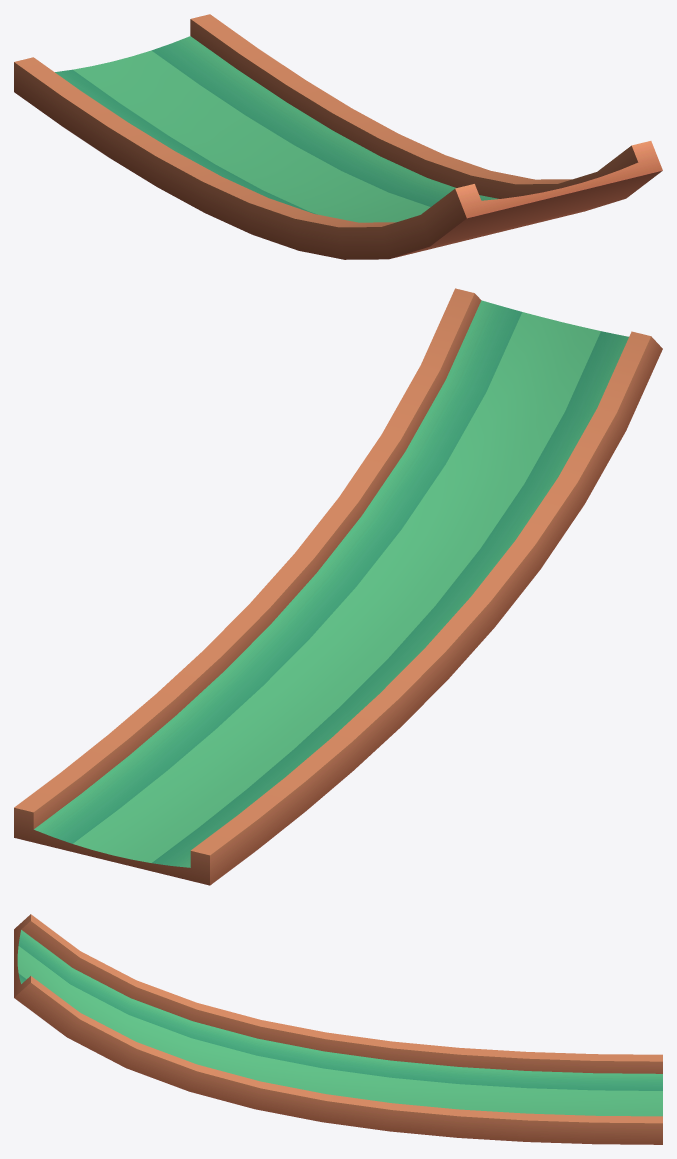
Rendered from spline-concave-straight-hill-beginning.glb.
The picture shows the model from 3 angles, top to bottom: view 1: azimuth 30°, elevation 25°; view 2: azimuth 150°, elevation 25°; view 3: azimuth 270°, elevation 25°; orthographic projection. The views are drawn at different scales.
Visible parts, largest first — view 1: spline-concave-straight-hill-beginning; view 2: spline-concave-straight-hill-beginning; view 3: spline-concave-straight-hill-beginning.
Boxes of the visible parts, x1,y1,x2,y2 form: spline-concave-straight-hill-beginning: [14, 14, 662, 259]; spline-concave-straight-hill-beginning: [14, 288, 662, 885]; spline-concave-straight-hill-beginning: [14, 914, 662, 1144].
Size of the model in its own units: 1 by 1.1 by 4.
1 material, 1 textured.
